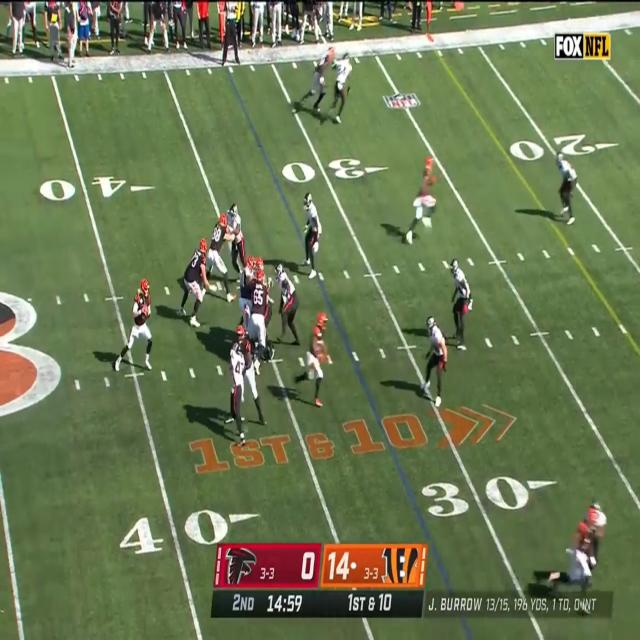Ball: (142, 303, 149, 318)
